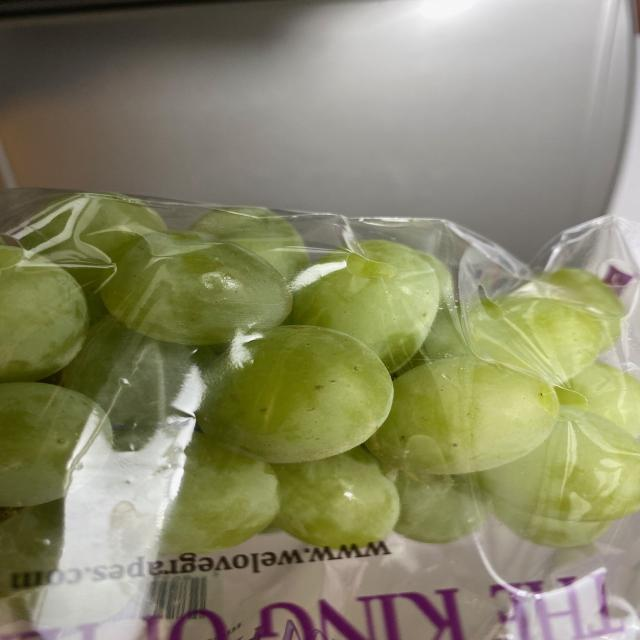grapes: (4, 206, 633, 605)
